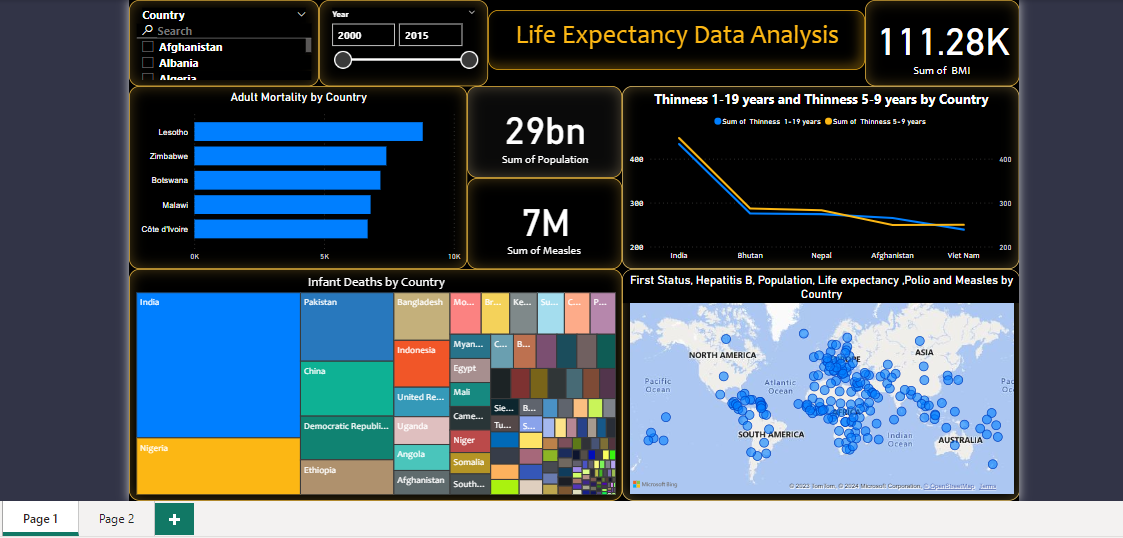

The page's visual inventory and layout, read from the dashboard file:
{"tool":"powerbi","page":{"name":"Page 1","canvas":[1280,720],"ordinal":0},"visuals":[{"type":"map","title":"First Status, Hepatitis B, Population, Life expectancy ,Polio and Measles  by Country","fields":{"Category":["Life Expectancy Data.Country"]},"box":[708.5,386.6,572,333.4],"z":0},{"type":"slicer","fields":{"Values":["Life Expectancy Data.Country"]},"box":[0,0,273.1,123.6],"z":1000},{"type":"treemap","title":"Infant Deaths by Country","fields":{"Group":["Life Expectancy Data.Country"],"Values":["Sum(Life Expectancy Data.Infant Deaths)"]},"box":[0,386.6,708.5,333.4],"z":2000},{"type":"card","fields":{"Values":["Sum(Life Expectancy Data. BMI )"]},"box":[1058.4,0,222.1,124.1],"z":3000},{"type":"scriptVisual","box":[1457.2,209.8,278.8,511.6],"z":4000},{"type":"lineChart","title":"Thinness  1-19 years and Thinness 5-9 years by Country","fields":{"Category":["Life Expectancy Data.Country"],"Y":["Sum(Life Expectancy Data. Thinness  1-19 years)"],"Y2":["Sum(Life Expectancy Data. Thinness 5-9 years)"]},"box":[708.8,123.9,571.2,262.9],"z":5000},{"type":"clusteredBarChart","title":"Adult Mortality by Country","fields":{"Category":["Life Expectancy Data.Country"],"Y":["Sum(Life Expectancy Data.Adult Mortality)"]},"box":[0,123.9,485.8,262.9],"z":6000},{"type":"slicer","fields":{"Values":["Life Expectancy Data.Year"]},"box":[273.1,0,243,124.1],"z":7000},{"type":"card","fields":{"Values":["Sum(Life Expectancy Data.Measles )"]},"box":[485.8,256,223,130.8],"z":8000},{"type":"card","fields":{"Values":["Sum(Life Expectancy Data.Population)"]},"box":[485.8,123.9,223,132.1],"z":9000},{"type":"textbox","box":[515.9,14.4,541.8,86.2],"z":10000}]}

Visuals, with their boxes on the page's 1280x720 design canvas (x1, y1, x2, y2). These are canvas units, not pixel positions in the 1123x538 screenshot, which may show the page scaled, cropped or inside an application window:
"First Status, Hepatitis B, Population, Life expectancy ,Polio and Measles  by Country" map: x1=708 y1=387 x2=1280 y2=720
slicer - Life Expectancy Data.Country: x1=0 y1=0 x2=273 y2=124
"Infant Deaths by Country" treemap: x1=0 y1=387 x2=708 y2=720
card - Sum(Life Expectancy Data. BMI ): x1=1058 y1=0 x2=1280 y2=124
scriptVisual: x1=1457 y1=210 x2=1736 y2=721
"Thinness  1-19 years and Thinness 5-9 years by Country" lineChart: x1=709 y1=124 x2=1280 y2=387
"Adult Mortality by Country" clusteredBarChart: x1=0 y1=124 x2=486 y2=387
slicer - Life Expectancy Data.Year: x1=273 y1=0 x2=516 y2=124
card - Sum(Life Expectancy Data.Measles ): x1=486 y1=256 x2=709 y2=387
card - Sum(Life Expectancy Data.Population): x1=486 y1=124 x2=709 y2=256
textbox: x1=516 y1=14 x2=1058 y2=101
